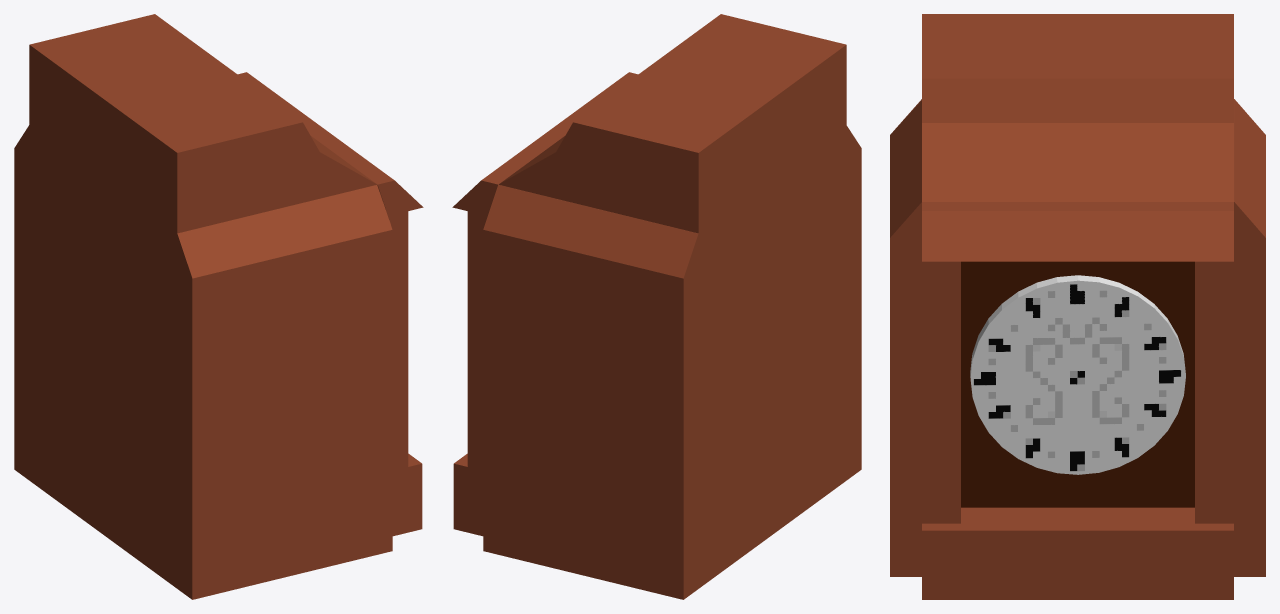
Rendered from Clock.fbx.
3 views of the same model, side by side, from view 1: azimuth 30°, elevation 25°; view 2: azimuth 150°, elevation 25°; view 3: azimuth 270°, elevation 25° (orthographic). The views are drawn at different scales.
Visible parts, largest first — view 1: Cube; view 2: Cube; view 3: Cube, Cylinder.
Part boxes in pixels (<box>): Cube: <box>14,14,423,599</box>; Cube: <box>452,14,861,599</box>; Cube: <box>890,14,1265,599</box>; Cylinder: <box>970,275,1185,474</box>.
Size of the model in its own units: 943 by 1596 by 1182.
Materials: 3 (1 with a texture image).
